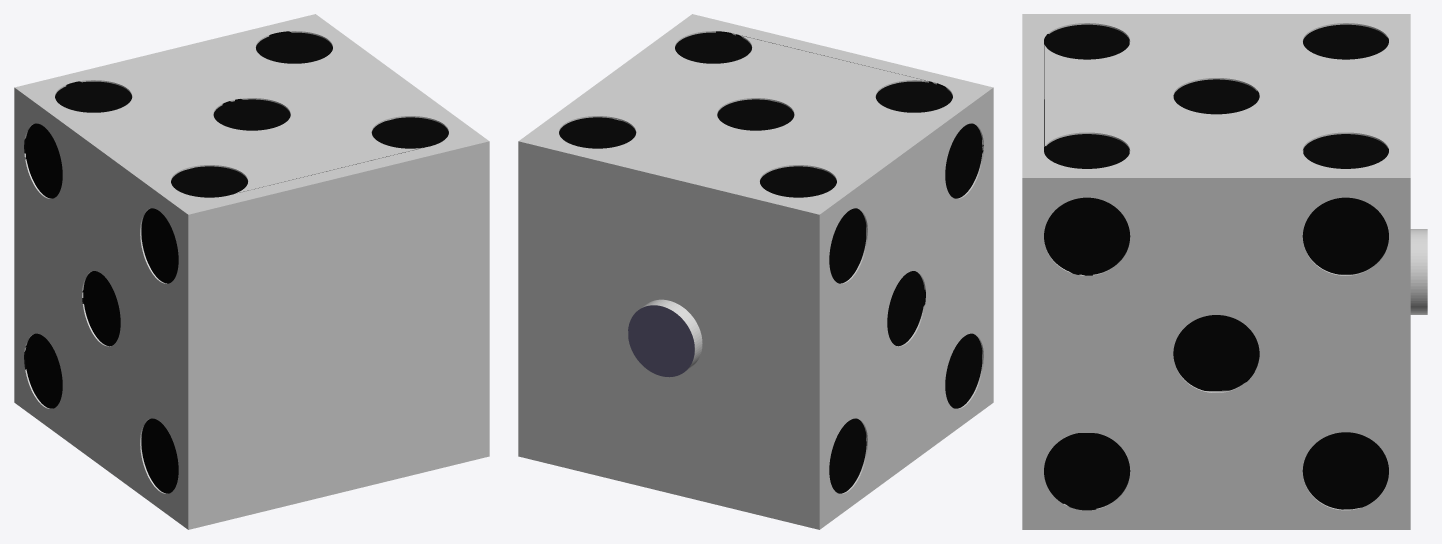
The model's file is dice5.fbx.
3 views of the same model, side by side, from view 1: azimuth 30°, elevation 25°; view 2: azimuth 150°, elevation 25°; view 3: azimuth 270°, elevation 25° (orthographic). The views are drawn at different scales.
Parts seen in each view (by area): view 1: Dice5; view 2: Dice5; view 3: Dice5.
Part boxes in pixels (<box>): Dice5: <box>14,14,489,529</box>; Dice5: <box>518,14,993,529</box>; Dice5: <box>1022,14,1427,529</box>.
Bounding box in the file's own units: 22.86 × 22.86 × 23.86.
